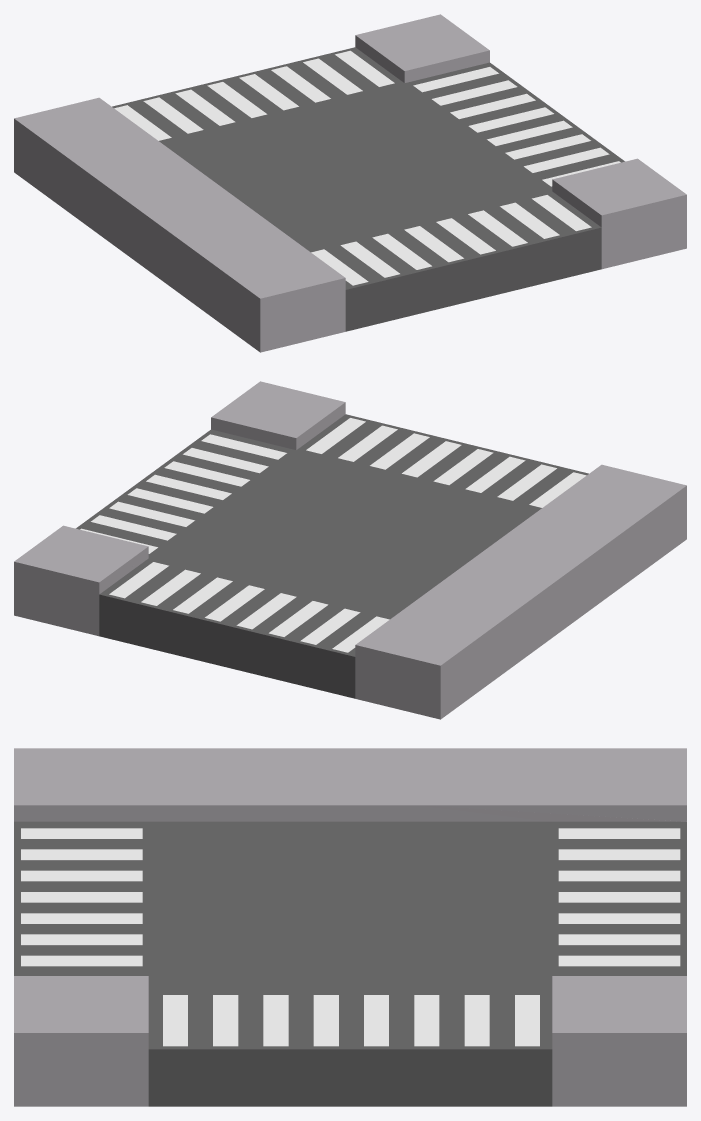
3 renders of one model, top to bottom at view 1: azimuth 30°, elevation 25°; view 2: azimuth 150°, elevation 25°; view 3: azimuth 270°, elevation 25°, orthographic. The views are drawn at different scales.
Visible parts, largest first — view 1: Road 4; view 2: Road 4; view 3: Road 4.
Part boxes in pixels (left/top/right/bottom): Road 4: left=14, top=14, right=686, bottom=352; Road 4: left=14, top=381, right=686, bottom=719; Road 4: left=14, top=748, right=686, bottom=1106.
Bounding box in the file's own units: 2.66 × 0.3215 × 2.66.
Materials: 1 (1 with a texture image).
